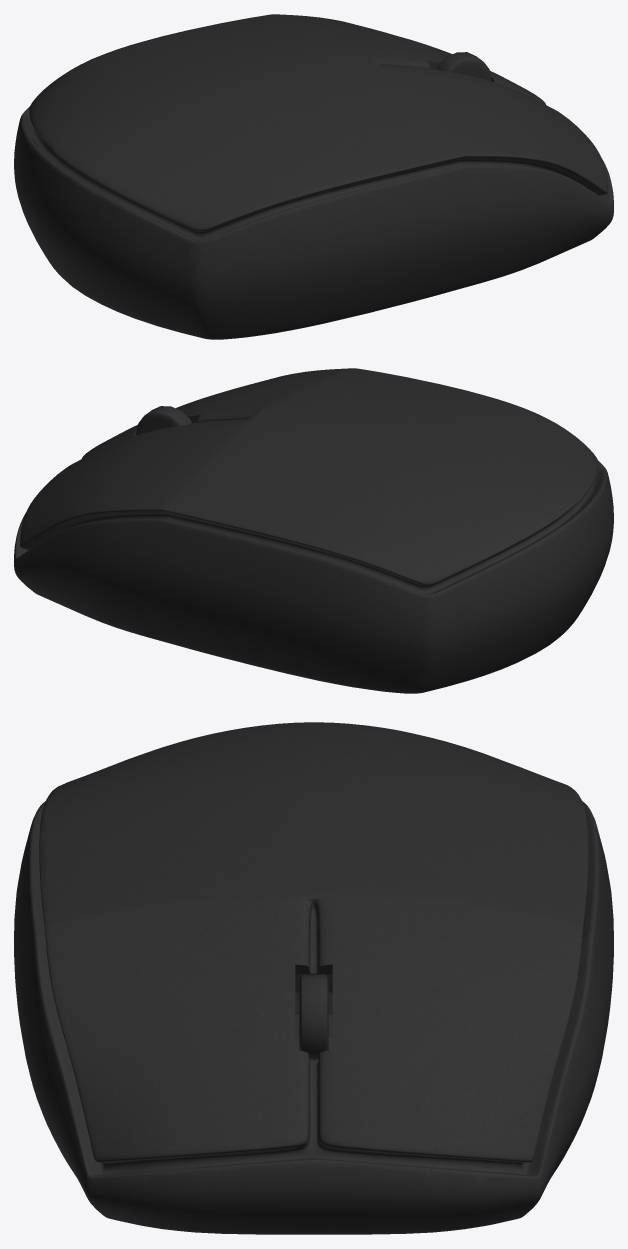
Rendered from pc_mouse.obj.
3 renders of one model, top to bottom at view 1: azimuth 30°, elevation 25°; view 2: azimuth 150°, elevation 25°; view 3: azimuth 270°, elevation 25°, orthographic. The views are drawn at different scales.
Parts seen in each view (by area): view 1: pc_mouse; view 2: pc_mouse; view 3: pc_mouse.
Boxes of the visible parts, x1,y1,x2,y2 form: pc_mouse: (14,14,613,339); pc_mouse: (14,368,613,693); pc_mouse: (14,722,613,1234).
Bounding box in the file's own units: 0.1036 × 0.0316 × 0.075.
1 material, 1 textured.
